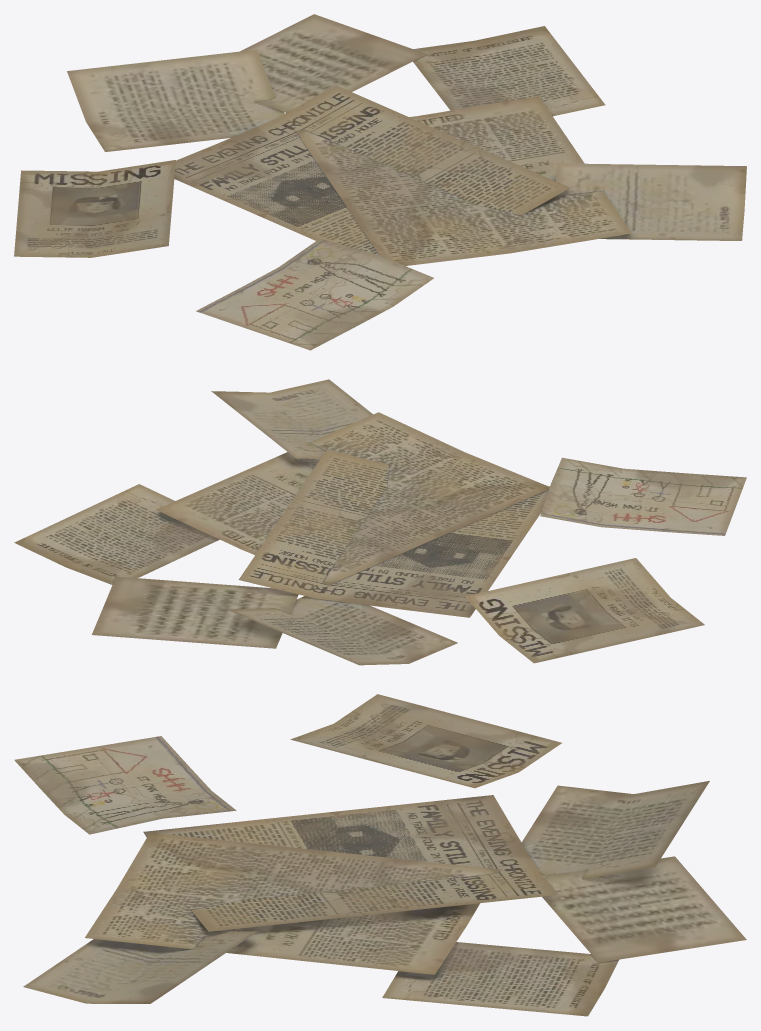
The model's file is dressing_papers.glb.
The picture shows the model from 3 angles, top to bottom: view 1: azimuth 30°, elevation 25°; view 2: azimuth 150°, elevation 25°; view 3: azimuth 270°, elevation 25°; orthographic projection. The views are drawn at different scales.
Parts seen in each view (by area): view 1: dressing_papers; view 2: dressing_papers; view 3: dressing_papers.
Part boxes in pixels (left/top/right/bottom): dressing_papers: left=14, top=14, right=746, bottom=350; dressing_papers: left=14, top=379, right=746, bottom=665; dressing_papers: left=14, top=694, right=746, bottom=1016.
Size of the model in its own units: 1.03 by 0.033 by 0.9747.
1 material, 1 textured.
